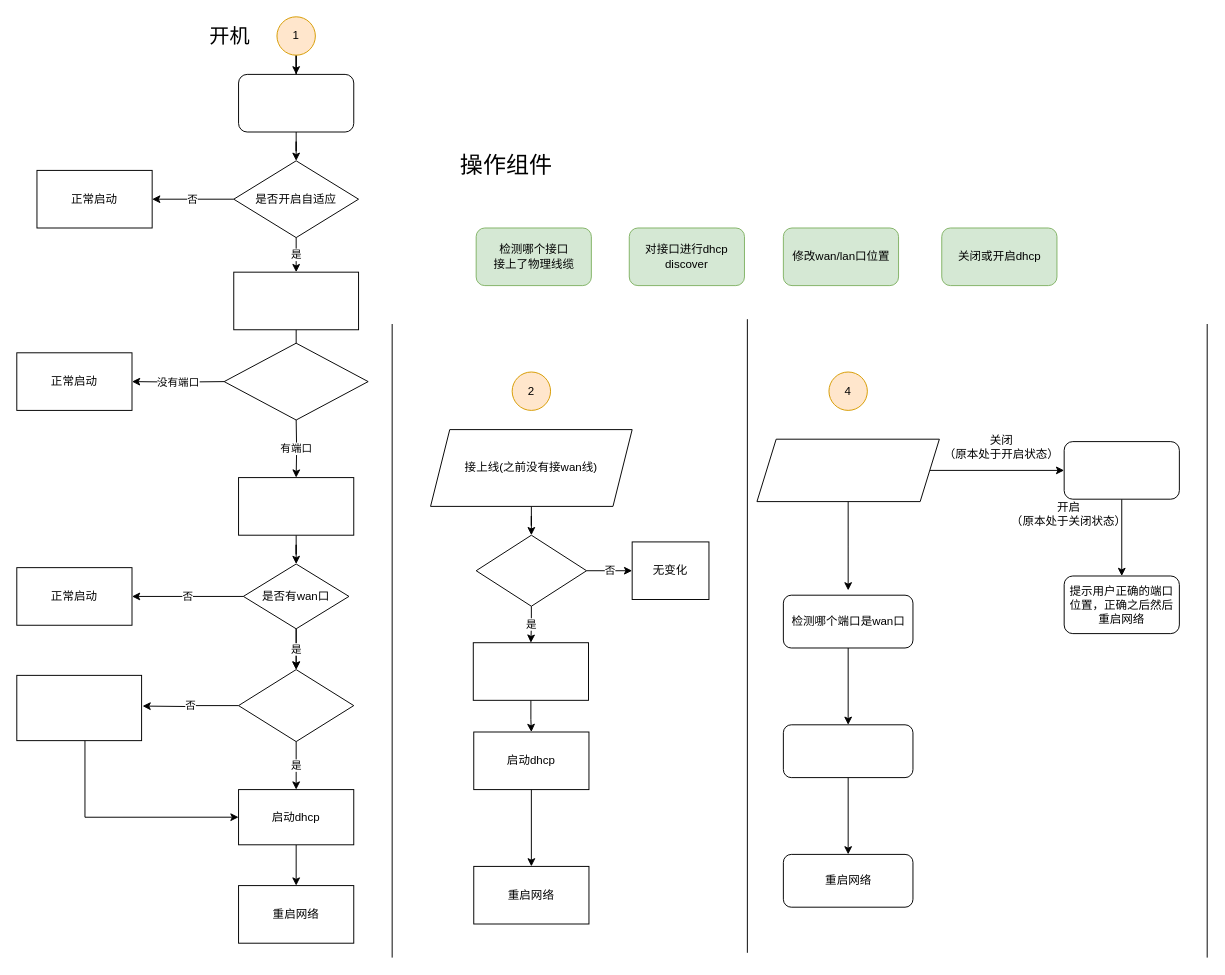
Some shapes in this 1225 by 975 pixel diagram are drawn without their labels. Each missing label, with the box of its shape:
wan线是否刚好 插到port0: (238, 669, 354, 742)
关闭dhcp: (238, 73, 354, 132)
分配wan口到 正确的vlan: (16, 674, 142, 741)
在运行过程中开启或者关闭、 wan/lan自适应,然后保存: (756, 438, 939, 502)
将五个口划分到vlan，默认port0是wan口: (233, 271, 359, 330)
将端口设置成默认的wan/lan端口: (1063, 441, 1179, 499)
插上线的端口 轮流dhcp discover: (238, 477, 354, 535)
是否是wan线: (475, 534, 587, 606)
检测哪些端口插了网线: (223, 342, 368, 420)
配置各个端口: (782, 724, 913, 778)
重新划分: (472, 642, 588, 700)
